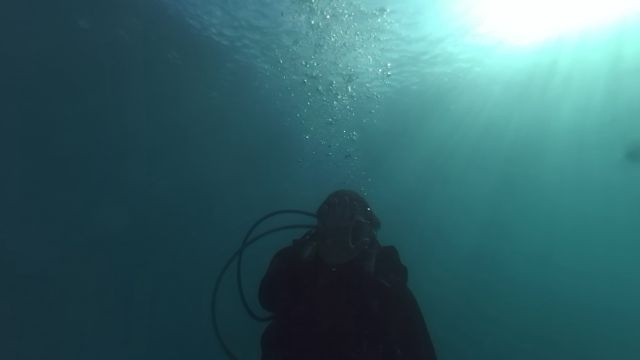Diver: (238, 169, 446, 353)
